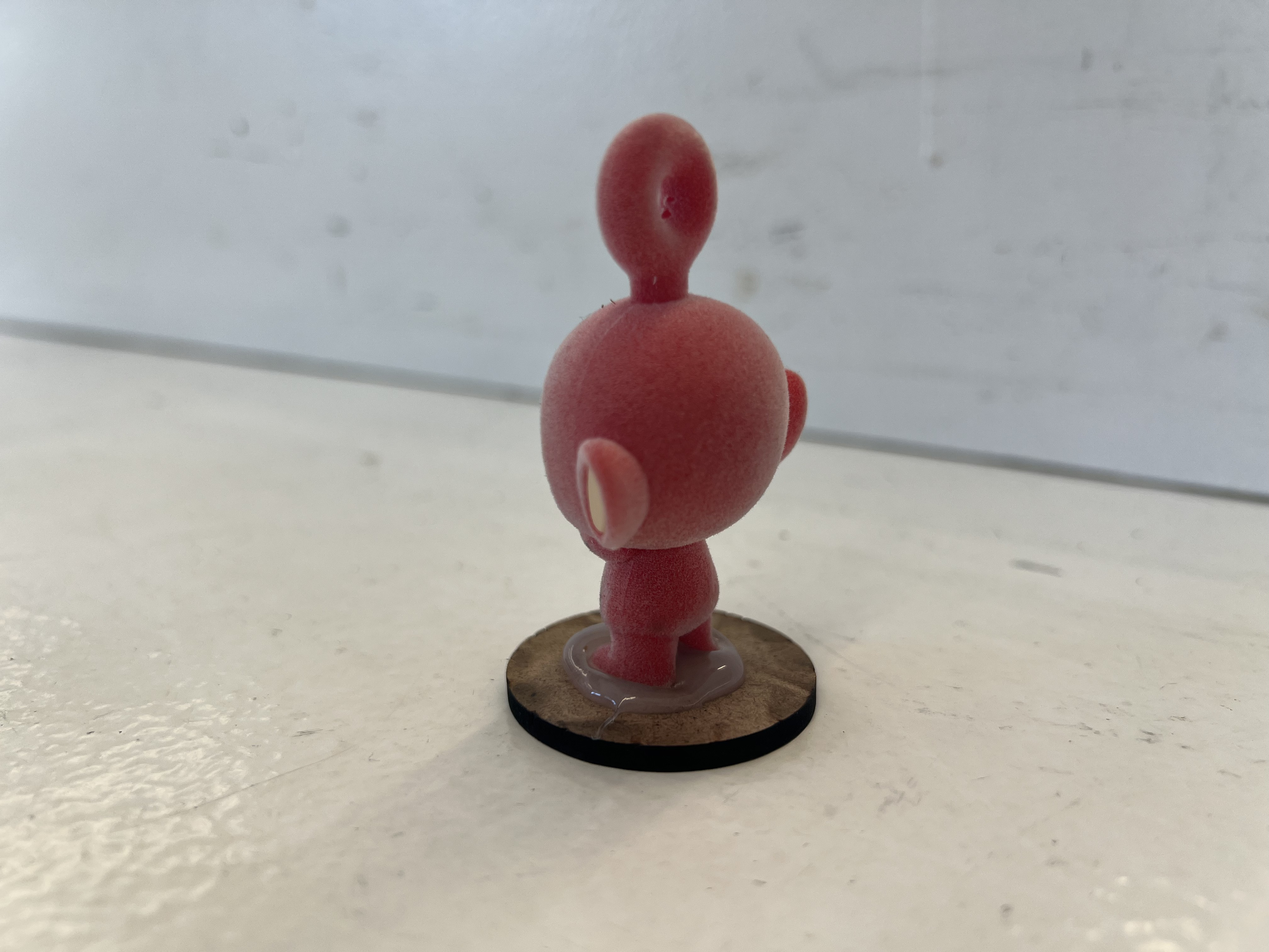teletubby: (541, 114, 807, 684)
